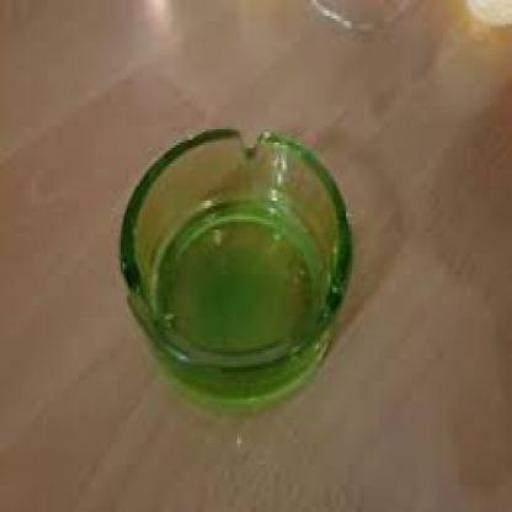glass: (116, 124, 350, 406), (300, 0, 425, 37)
